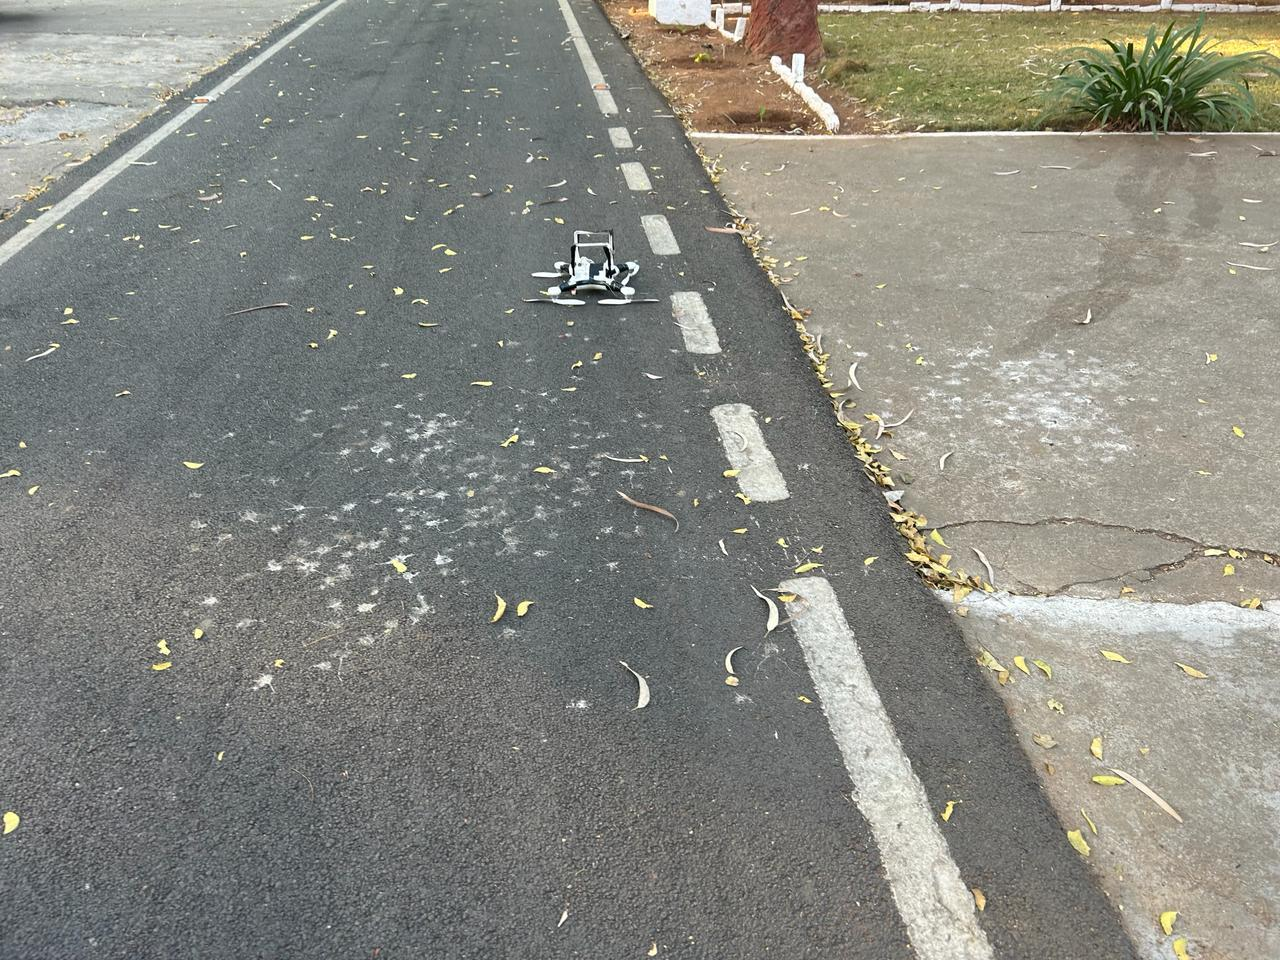drone: (481, 176, 720, 360)
